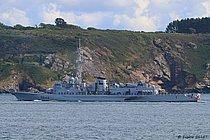MIL_Ship: (10, 73, 200, 104)
